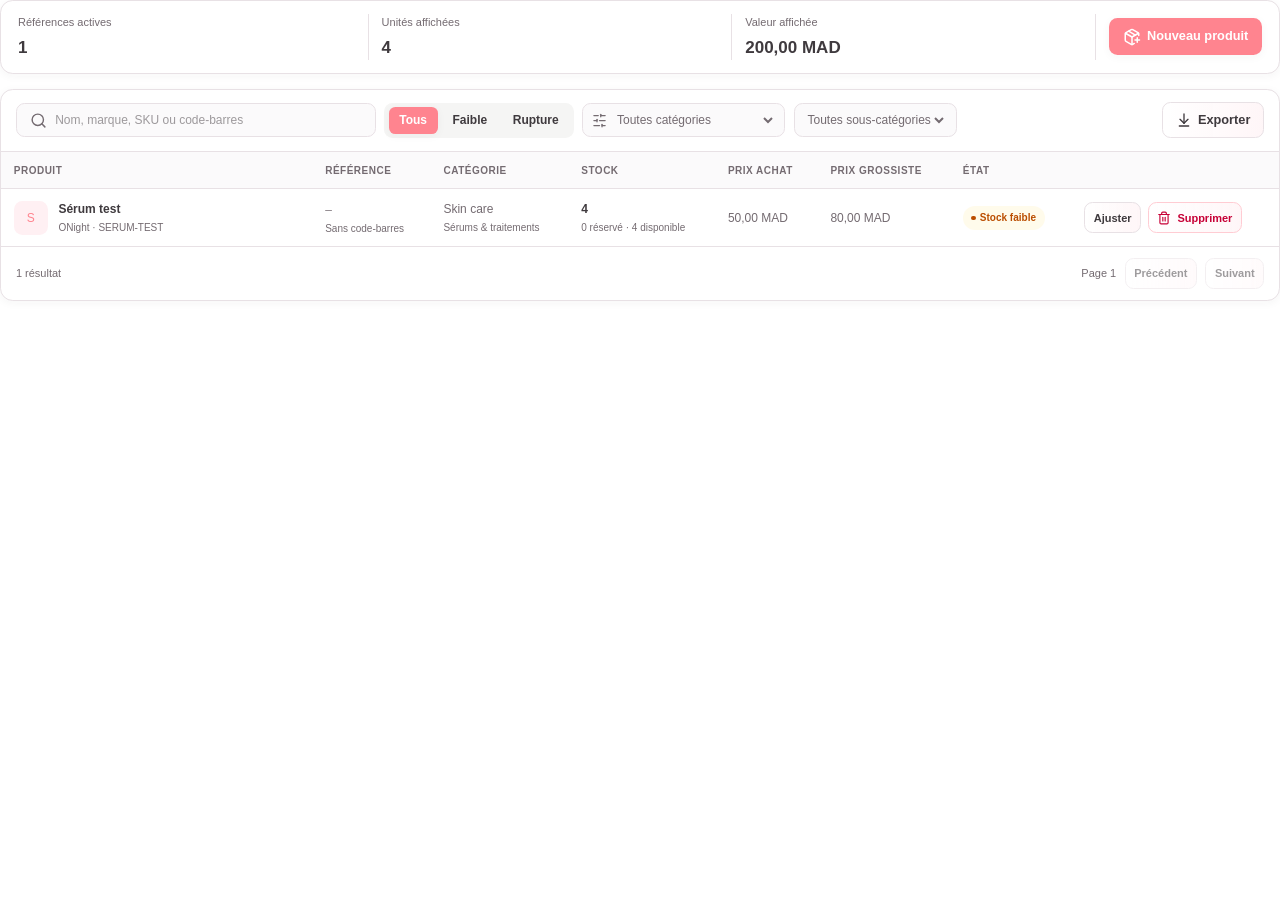
Test: product deletion › explains an edit barcode conflict and shows direct product actions
This screenshot has width=1280, height=900.
Click the button "Sérum test" at (161,209), box [58,201,263,218]
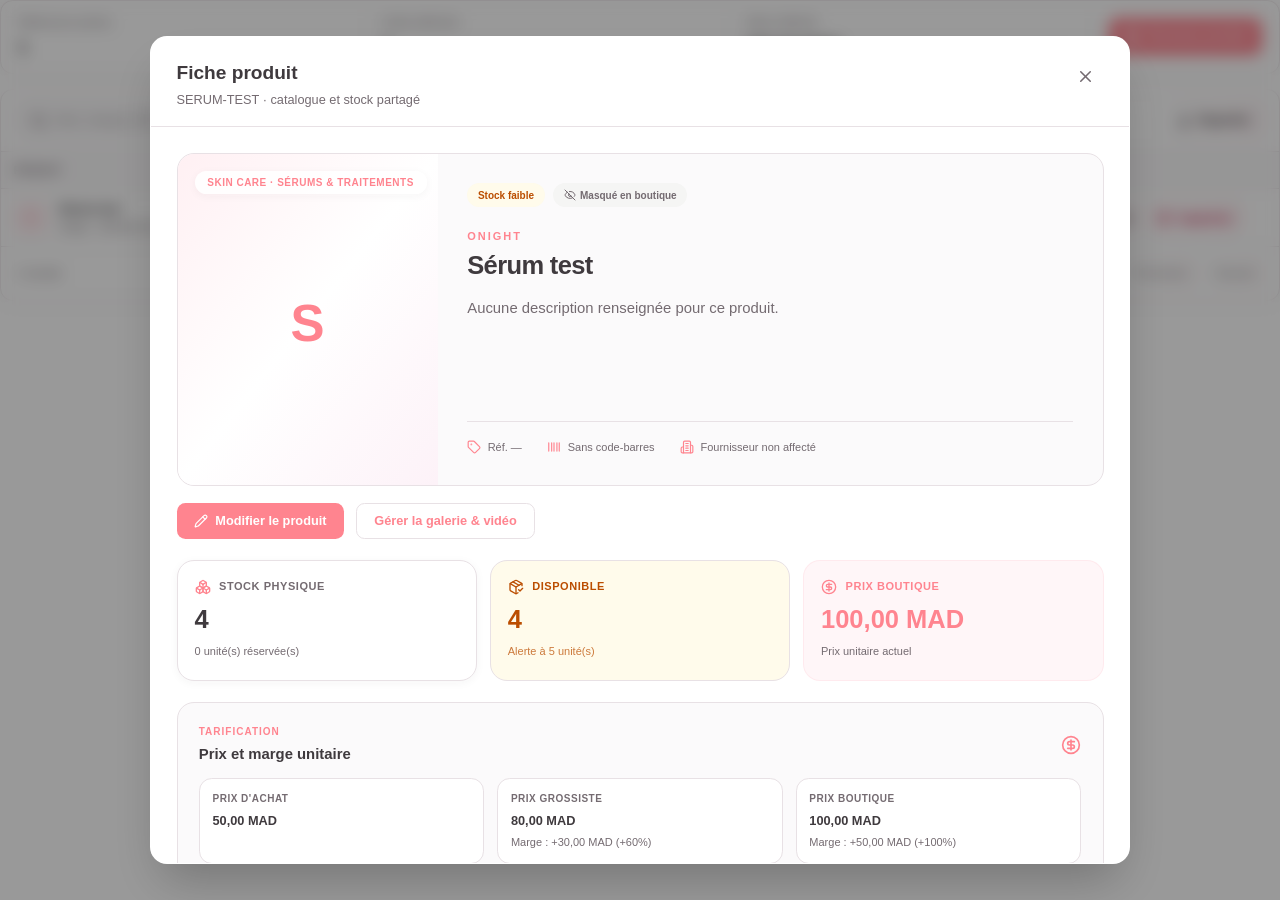
Click the button "Modifier le produit" at (260,521), box [176,503,344,539]
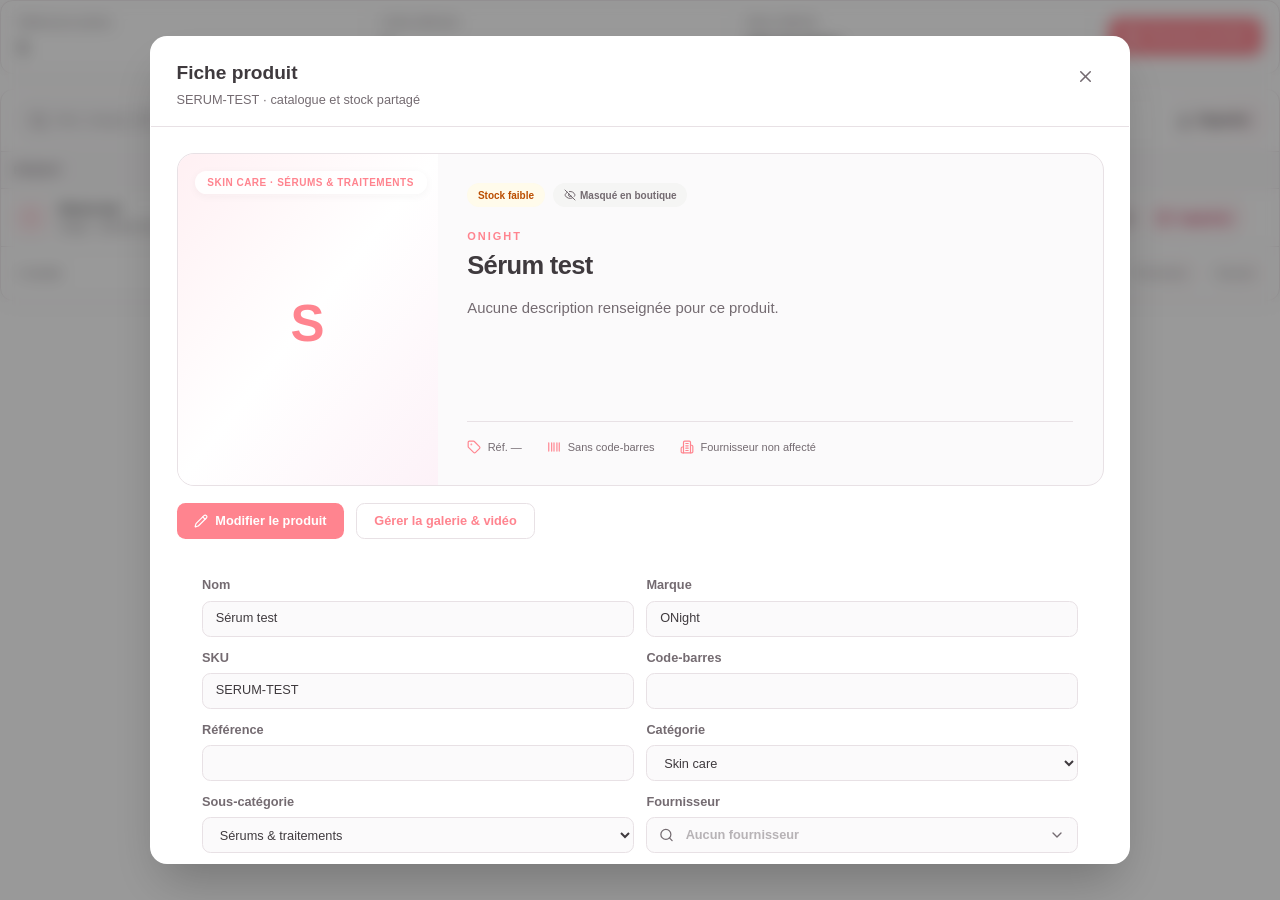
Type "6110000000012" into the field labelled "Code-barres" at (862,691), box [646,673,1078,709]
(page scrolled)
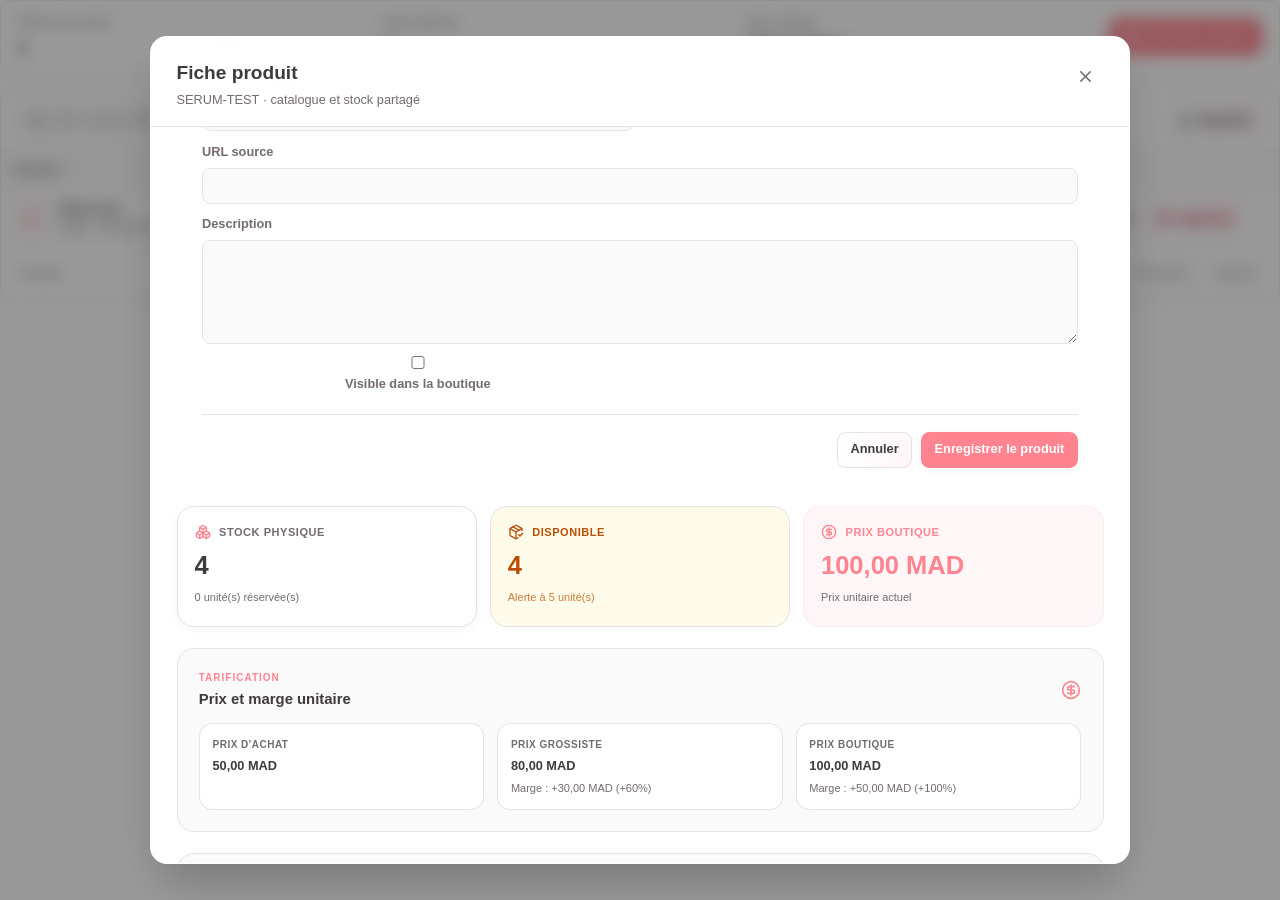
Click the button "Enregistrer le produit" at (999,450), box [921,432,1078,468]
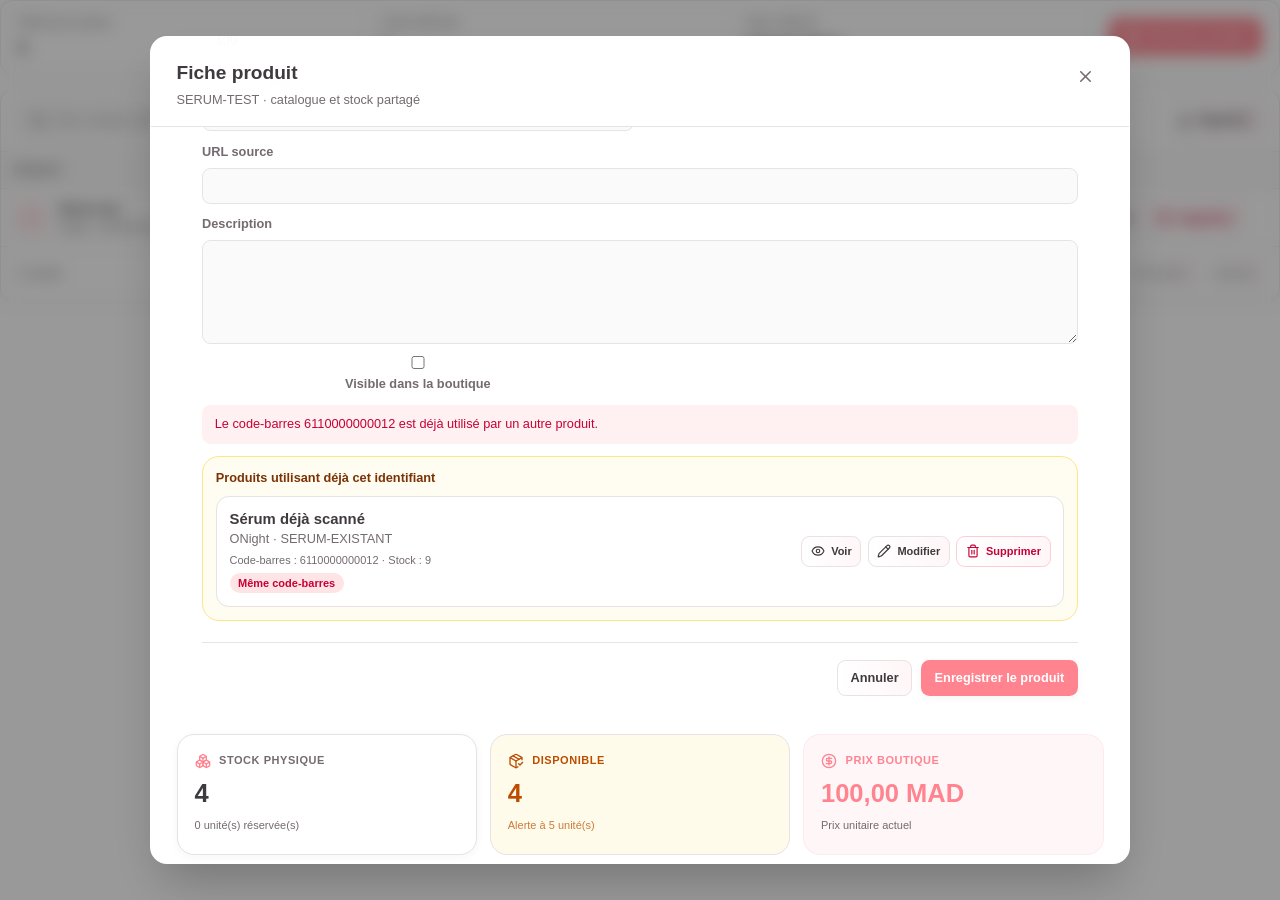
Check: the text "Même code-barres" is shown, box [230,573,344,593]
